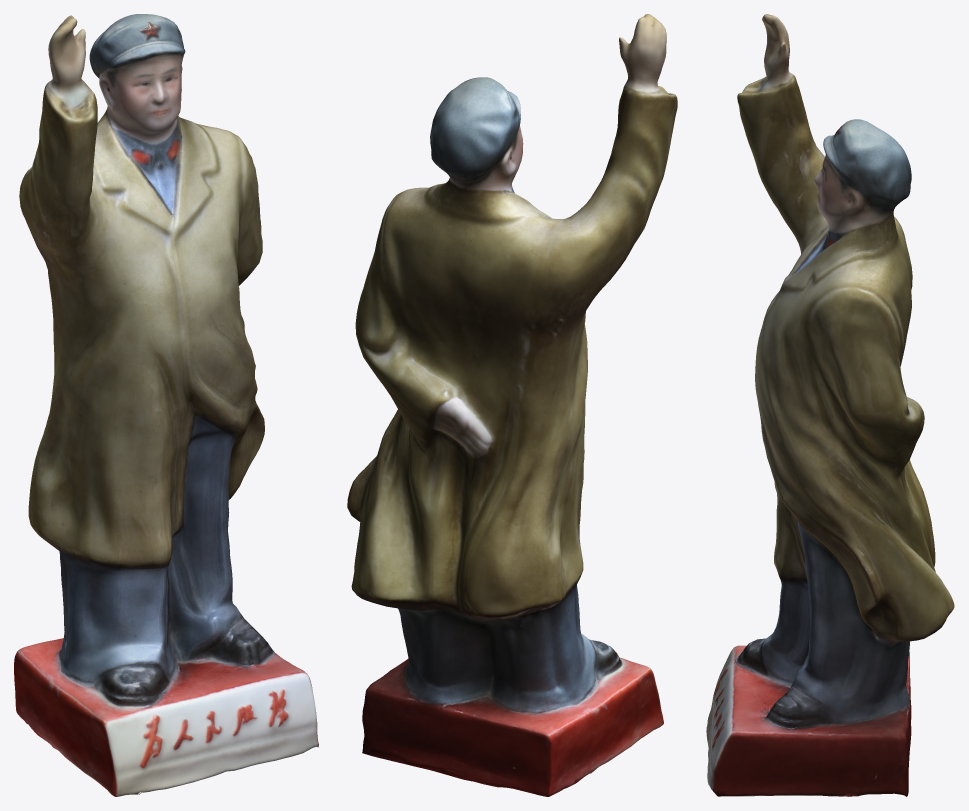
The picture shows the model from 3 angles, left to right: view 1: azimuth 30°, elevation 25°; view 2: azimuth 150°, elevation 25°; view 3: azimuth 270°, elevation 25°; orthographic projection. The views are drawn at different scales.
Visible parts, largest first — view 1: Geode; view 2: Geode; view 3: Geode.
Part boxes in pixels (box(x1,y1,x2,y2)): Geode: box(14, 14, 318, 796); Geode: box(347, 14, 677, 796); Geode: box(706, 14, 954, 796).
Bounding box in the file's own units: 1.47 × 3.92 × 1.28.
Materials: 1 (1 with a texture image).
